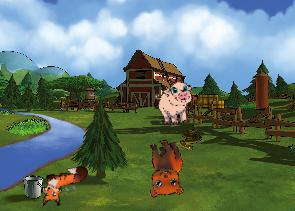bear: (135, 135, 191, 202)
fox: (35, 163, 93, 209)
pig: (154, 81, 197, 127)
